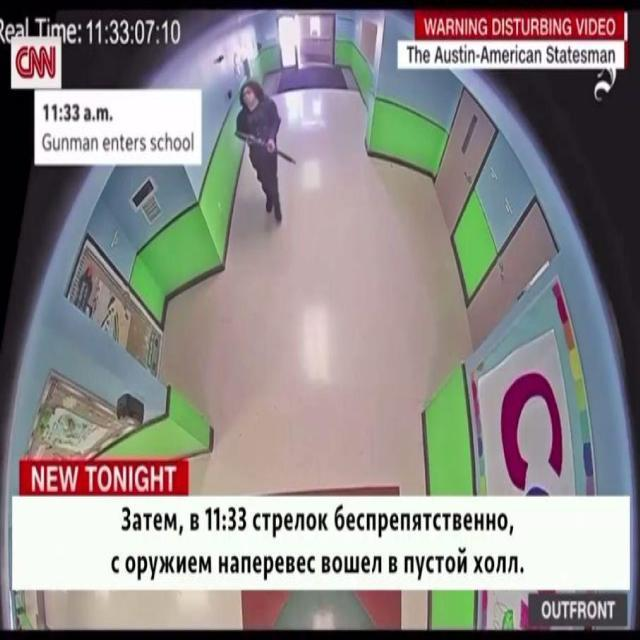pistol: (251, 132, 295, 176)
